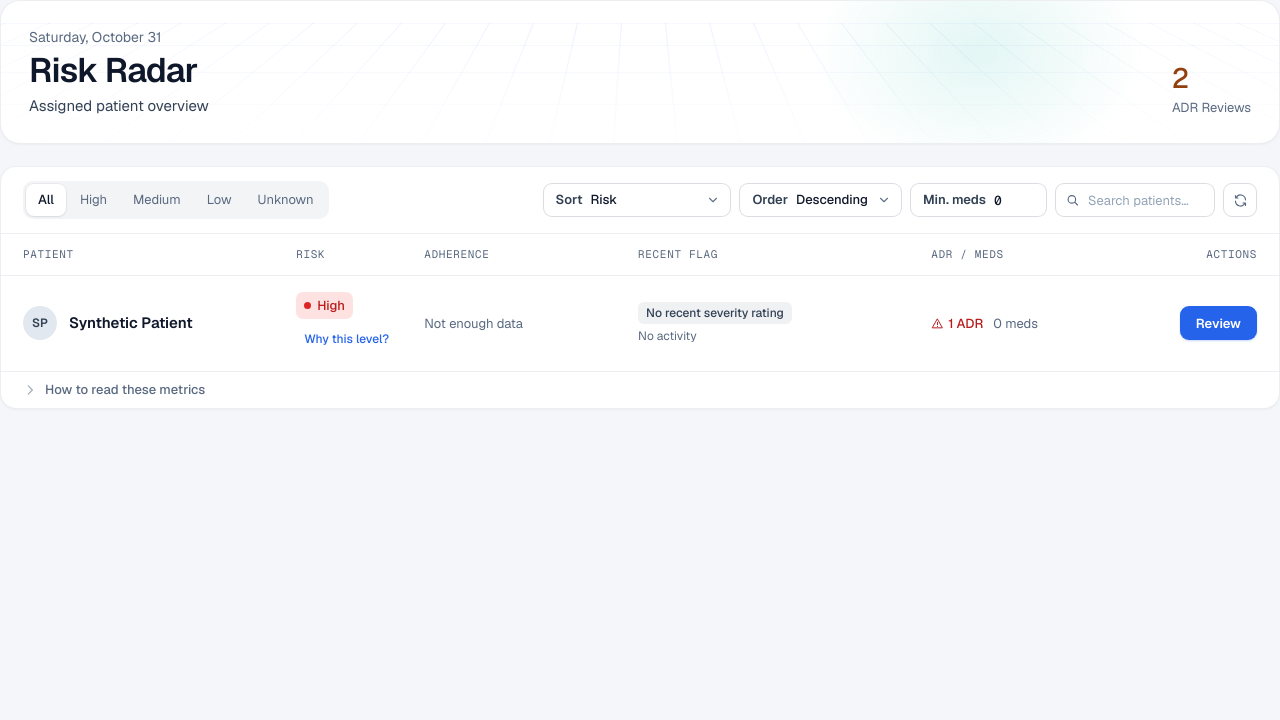
Test: Dashboard presentation › explains versioned priority without presenting missing adherence as zero
Click the button with aria-label "Explain review priority for Synthetic Patient": coordinates (347, 339) [296,323,397,355]
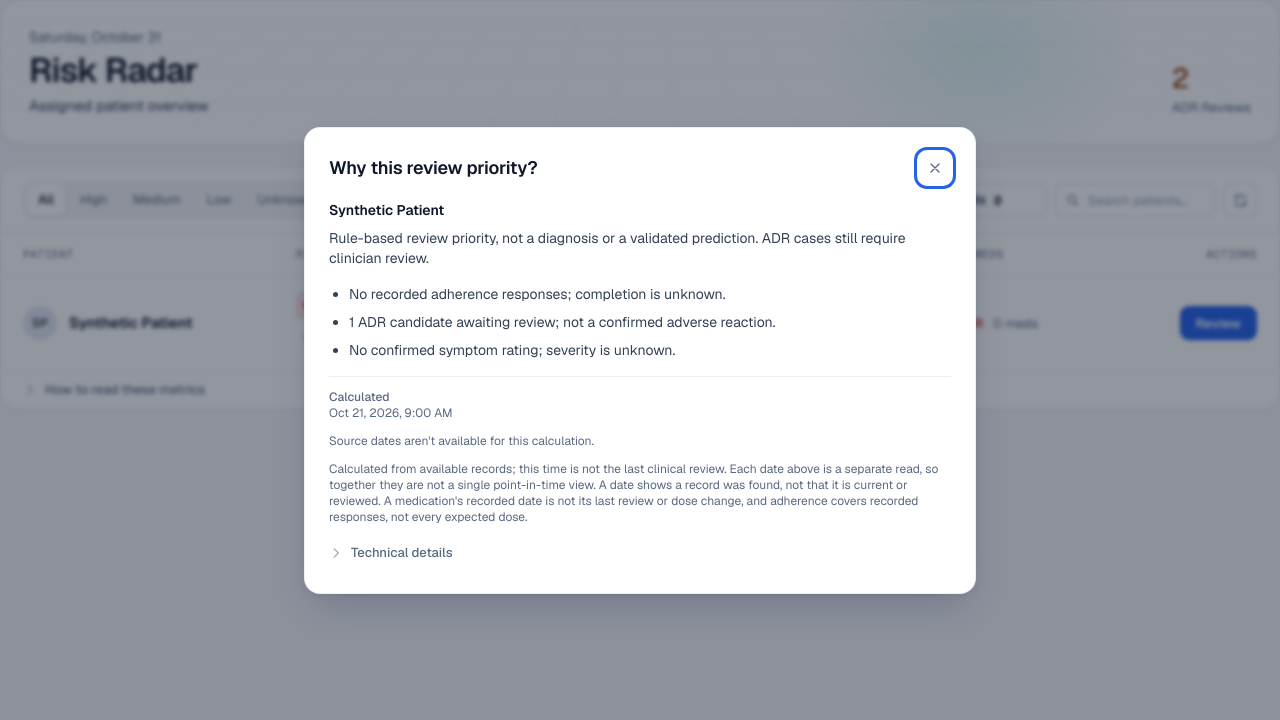
Expected: the dialog shows "not a diagnosis", [329,228,906,266]
Expected: the dialog shows "not the last clinical review", [329,460,938,524]
